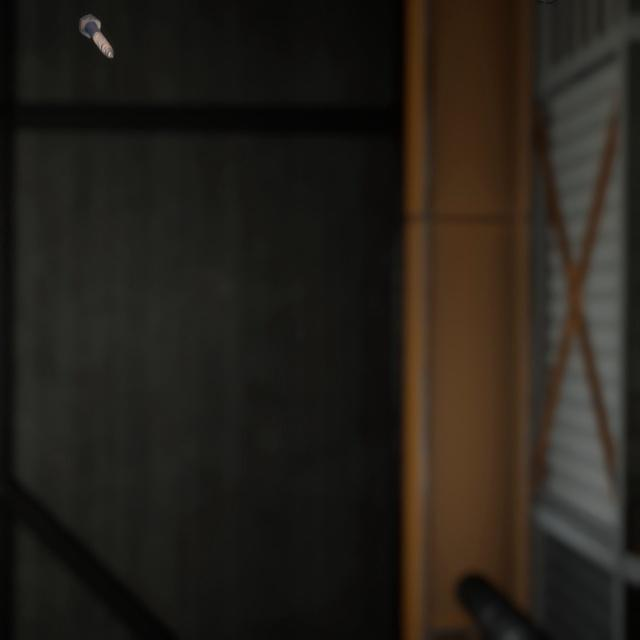bolt: (74, 1, 118, 53)
